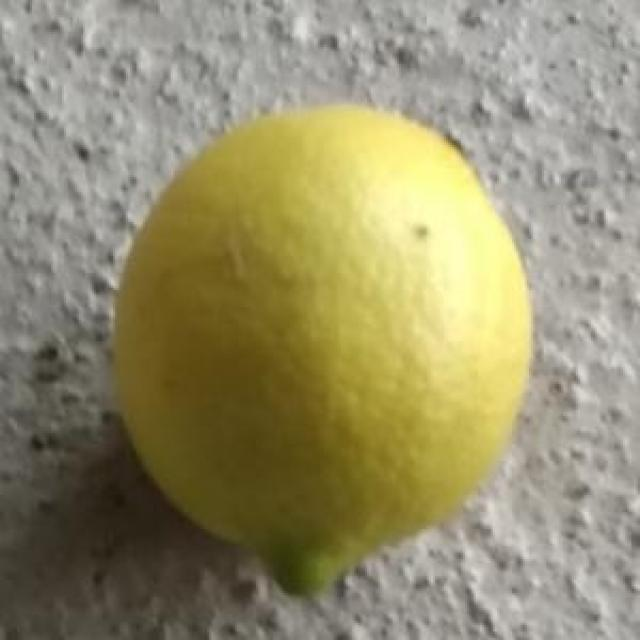lemon: (110, 103, 540, 586)
